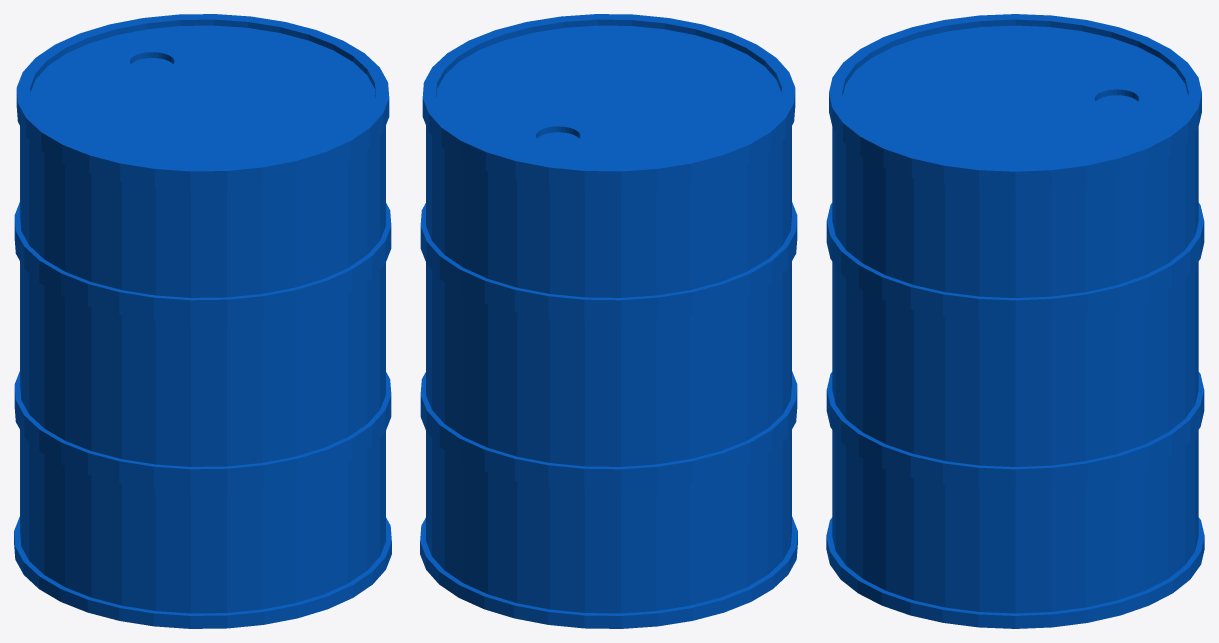
File: barrel.glb
The picture shows the model from 3 angles, left to right: view 1: azimuth 30°, elevation 25°; view 2: azimuth 150°, elevation 25°; view 3: azimuth 270°, elevation 25°; orthographic projection.
Visible parts, largest first — view 1: Cylinder; view 2: Cylinder; view 3: Cylinder.
Part boxes in pixels (left/top/right/bottom): Cylinder: left=14, top=14, right=391, bottom=628; Cylinder: left=420, top=14, right=797, bottom=628; Cylinder: left=826, top=14, right=1204, bottom=628.
Size of the model in its own units: 2.06 by 2.75 by 2.06.
